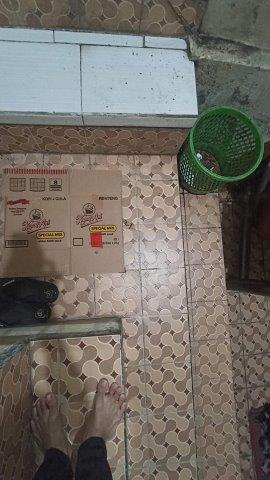kardus: (3, 169, 125, 278)
